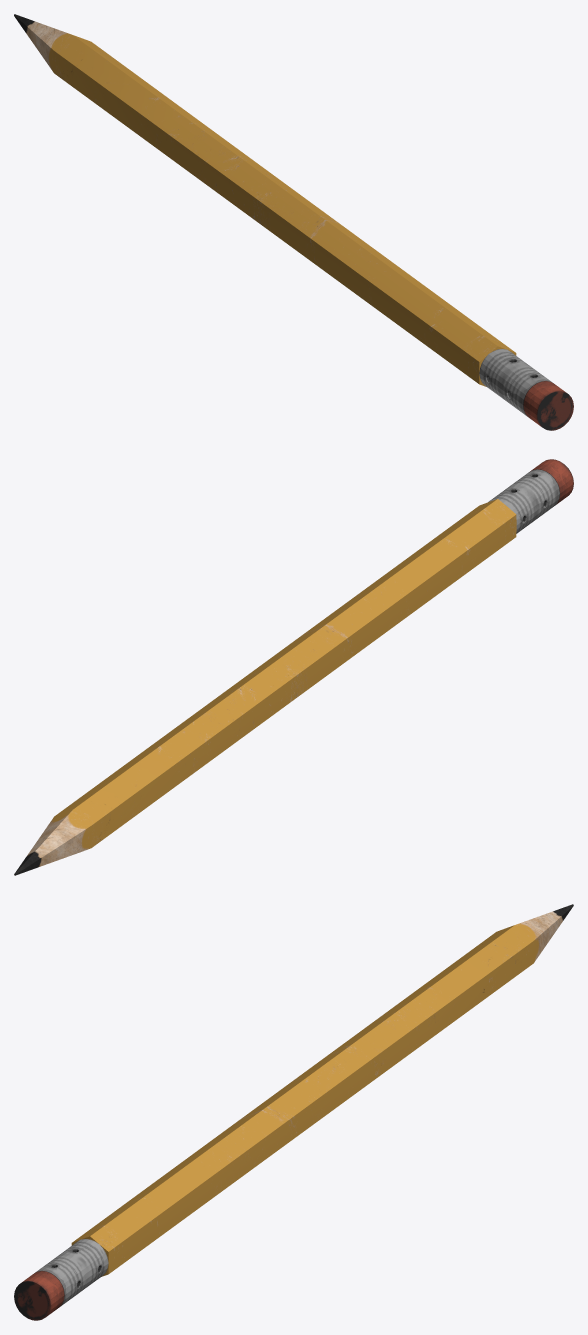
File: pencil.glb
3 renders of one model, top to bottom at view 1: azimuth 30°, elevation 25°; view 2: azimuth 150°, elevation 25°; view 3: azimuth 330°, elevation 25°, orthographic.
Visible parts, largest first — view 1: Lowpoly; view 2: Lowpoly; view 3: Lowpoly.
Part boxes in pixels (x1,y1,x2,y2): Lowpoly: (14,14,573,430); Lowpoly: (14,459,573,875); Lowpoly: (14,904,573,1320).
Bounding box in the file's own units: 0.00719 × 0.00832 × 0.1804.
1 material, 1 textured.
